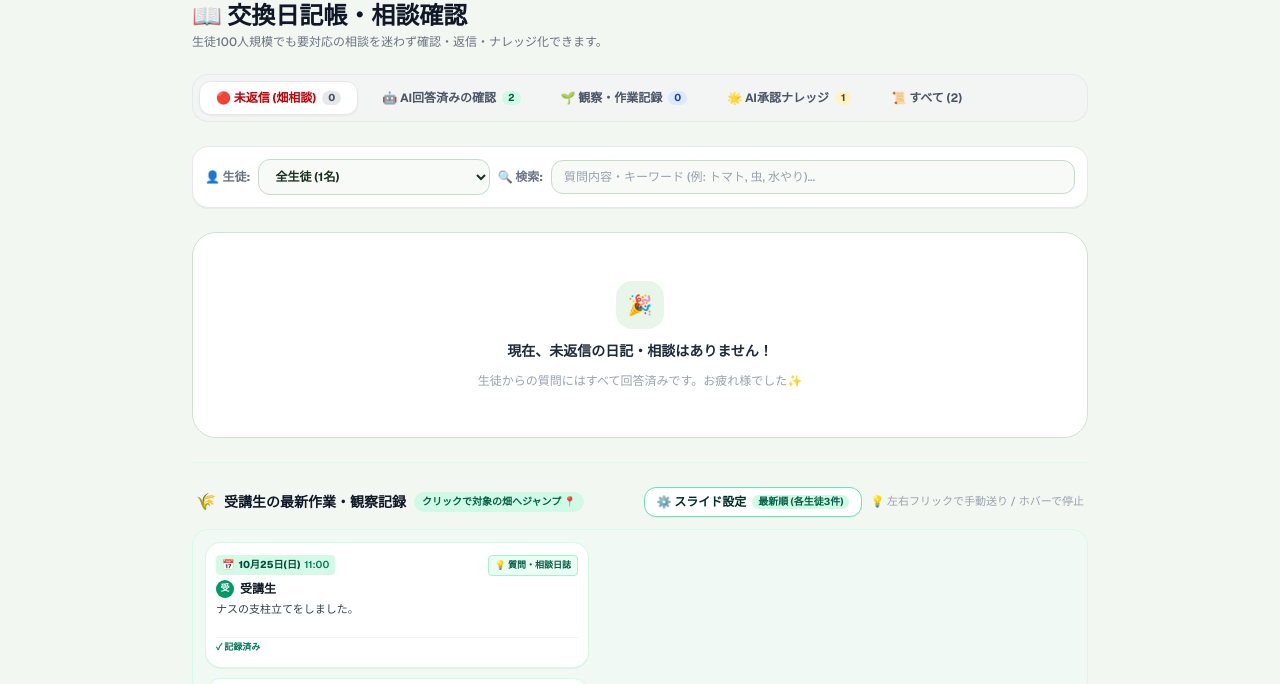
Test: TeacherJournalsView - AIナレッジ PII 保護セキュリティテスト › 2. 未承認日誌への初回通常返信では、is_approved を更新せずに返信のみが保存されること
The image size is (1280, 684).
# 「📜 すべて」タブに切り替え
Click the button "📜 すべて (2)" at (927, 98), box [876,82,978,114]
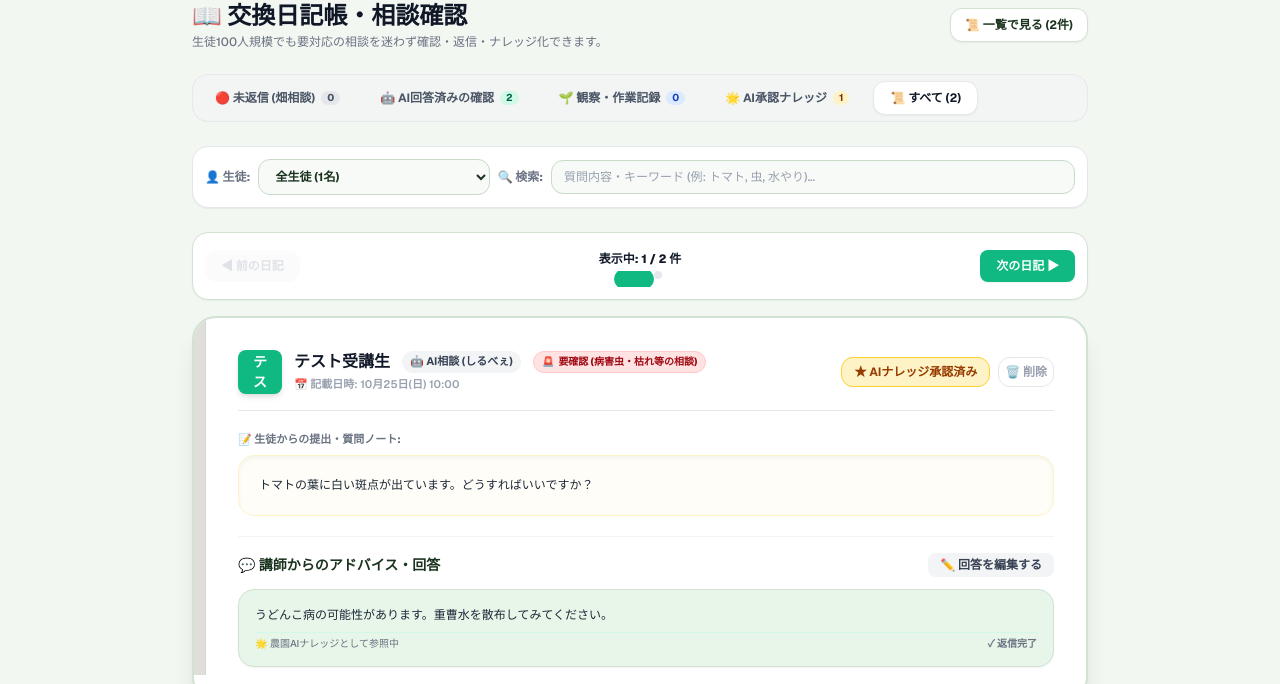
# 2件目の日誌へページ送り（「次の日記 ▶」をクリック）
Click the button "次の日記 ▶" at (1028, 266), box [980,250,1075,282]
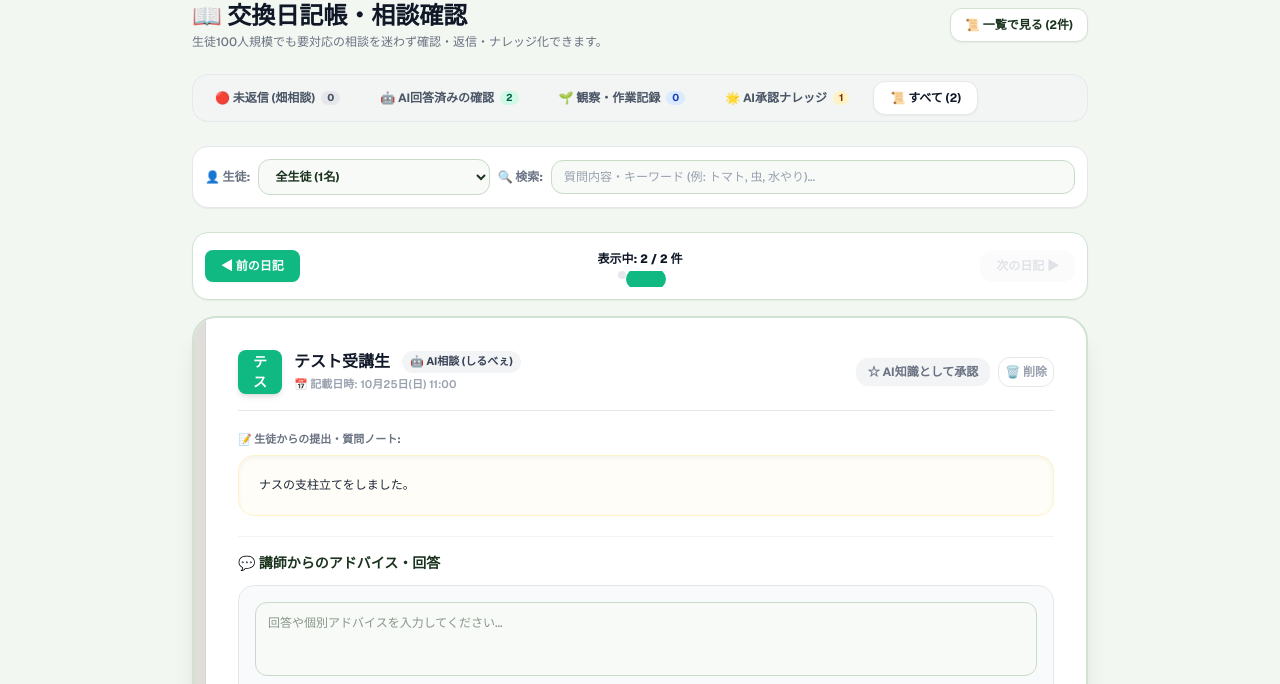
Type "支柱立てお疲れ様でした！しっかり誘引できていますね。" into the text box with placeholder "回答や個別アドバイスを入力してください..." at (646, 639), box [255,602,1037,676]
(page scrolled)
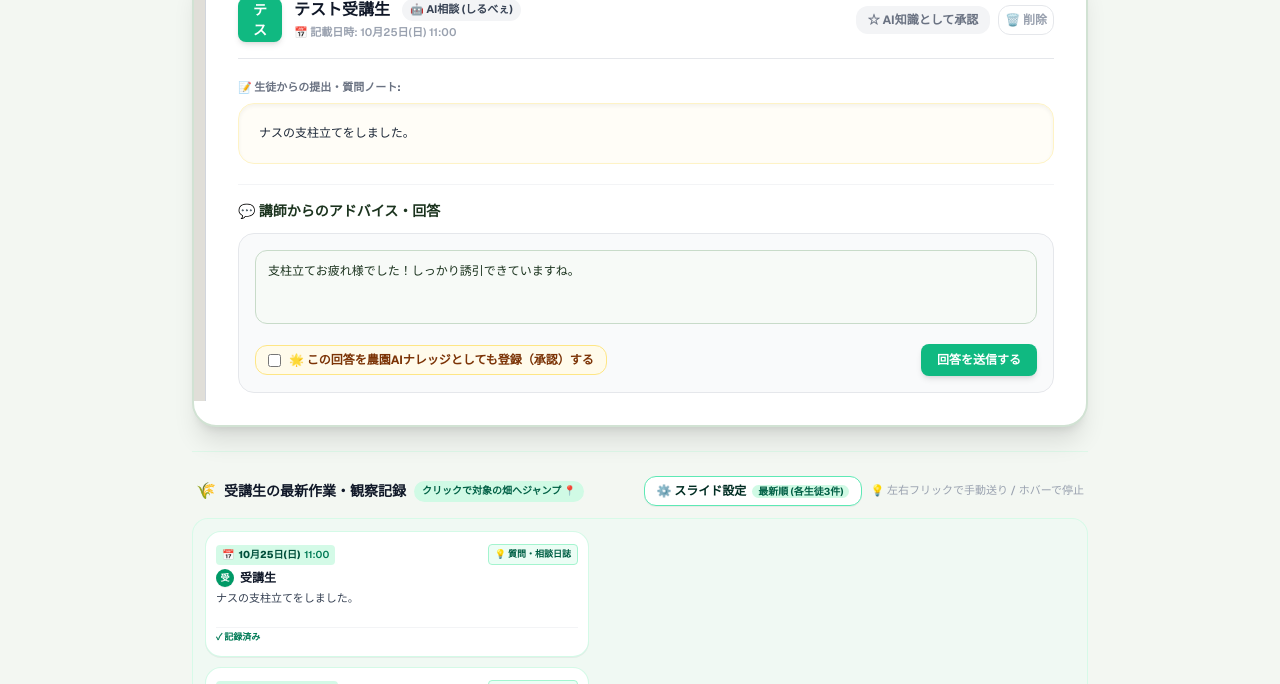
Click the button "回答を送信する" at (979, 360), box [921,344,1037,376]
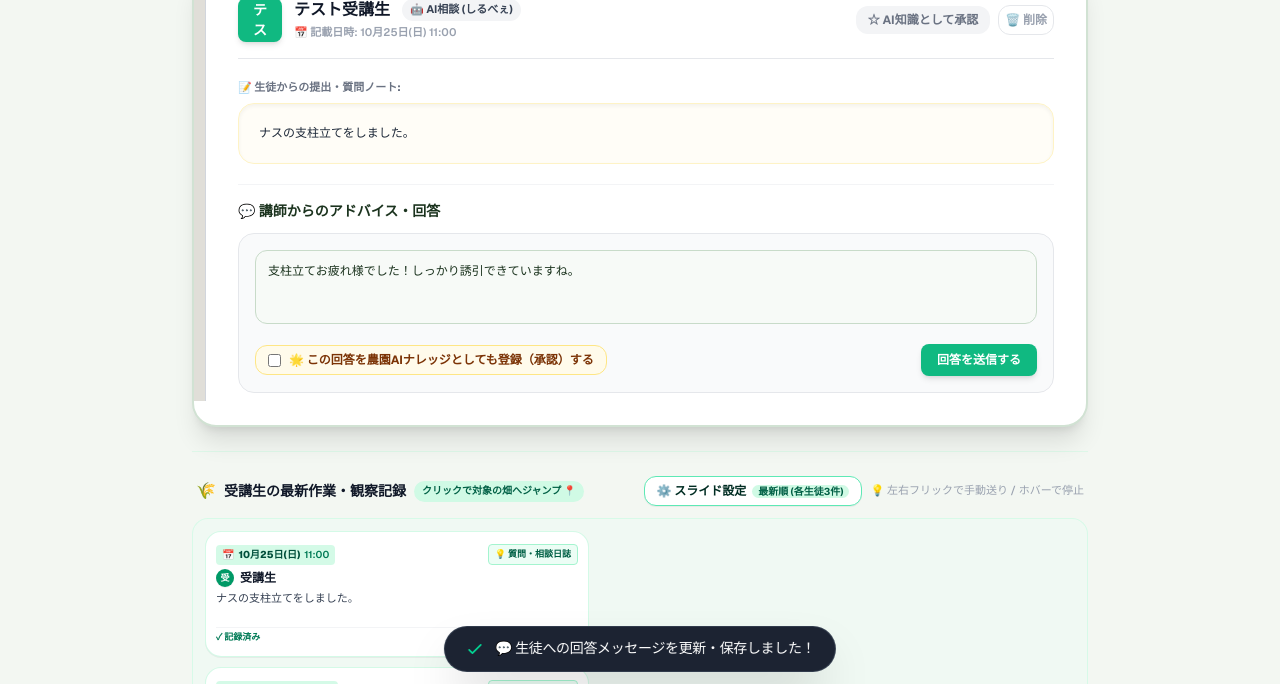
Now the text "💬 生徒への回答メッセージを更新・保存しました！" is shown, box [495,639,815,659]
